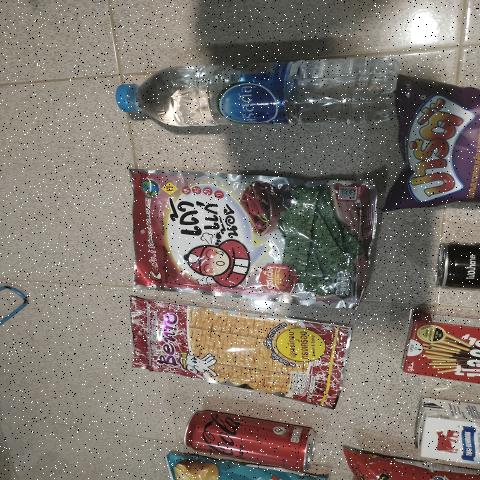bento_red: (117, 301, 341, 410)
coke_red: (177, 407, 328, 472)
crystal: (95, 54, 403, 131)
taokaenoi: (144, 180, 360, 294)
thai_denmark: (424, 396, 480, 462)
